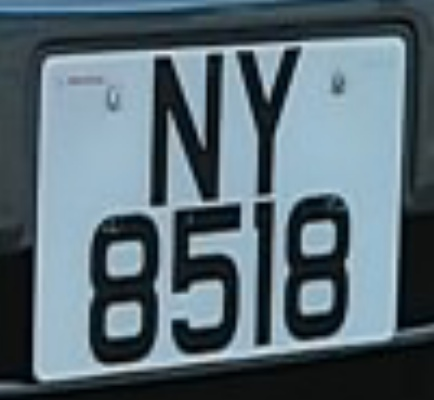1: (241, 192, 288, 356)
5: (160, 199, 257, 363)
8: (68, 207, 168, 370), (273, 182, 366, 347)
N: (137, 40, 238, 217)
Y: (229, 30, 311, 205)
